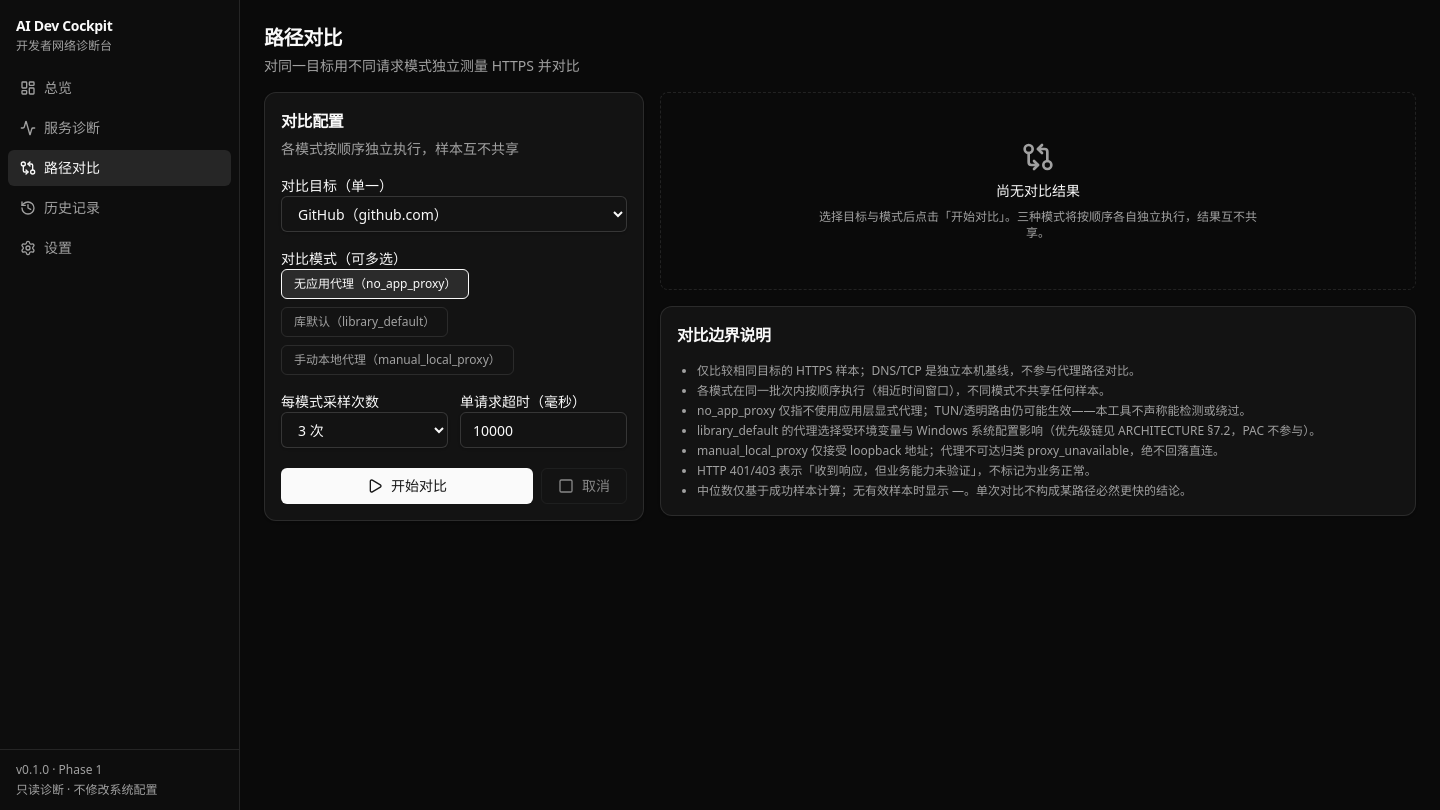
Scenario: 路径对比页（真实模式） › 顺序执行多模式并渲染各模式统计（样本互不共享）
// 选择 no_app_proxy（默认）+ 库默认
Click the button "库默认（library_default）": (365, 322) [281,307,448,337]
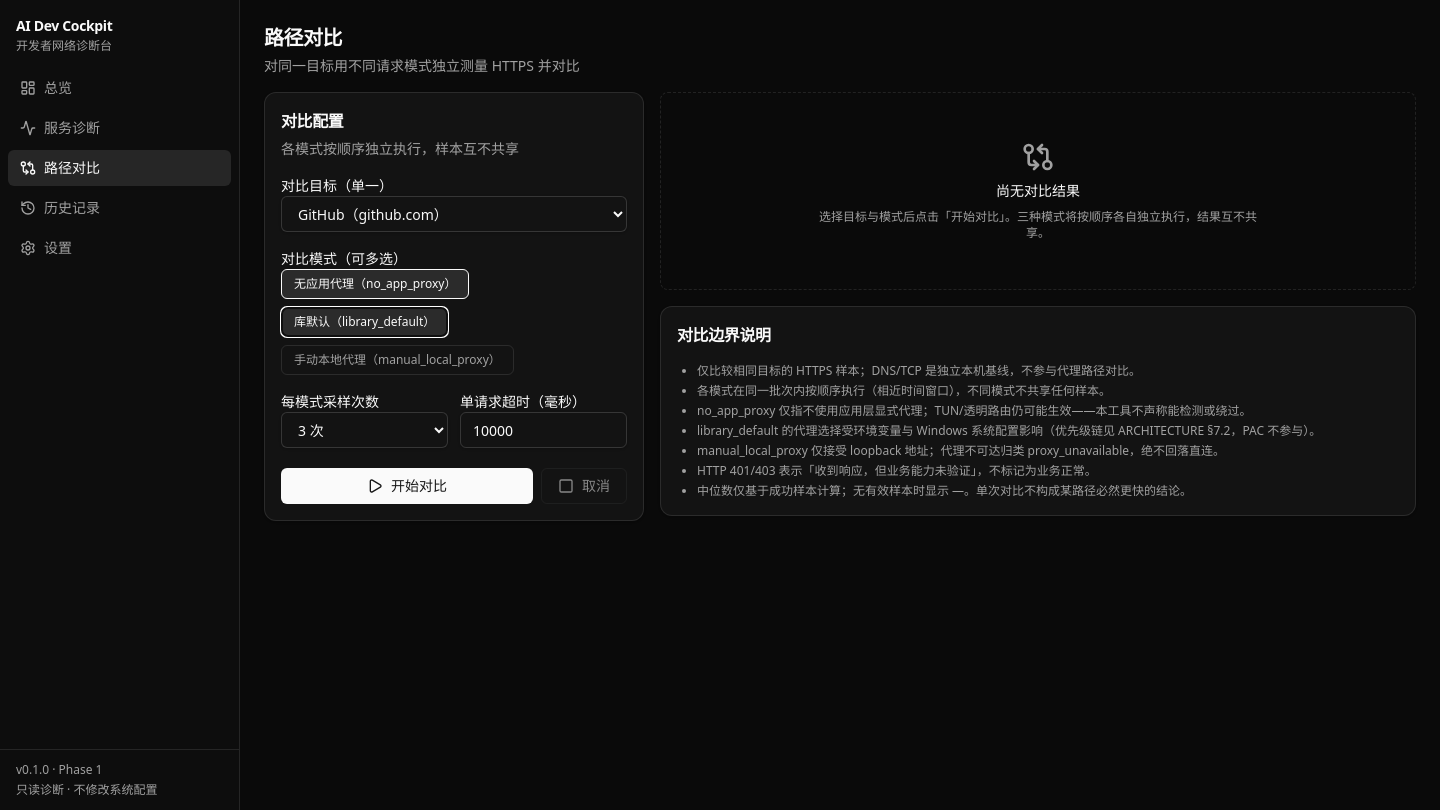
Click the button "开始对比": (407, 486) [281,468,533,504]
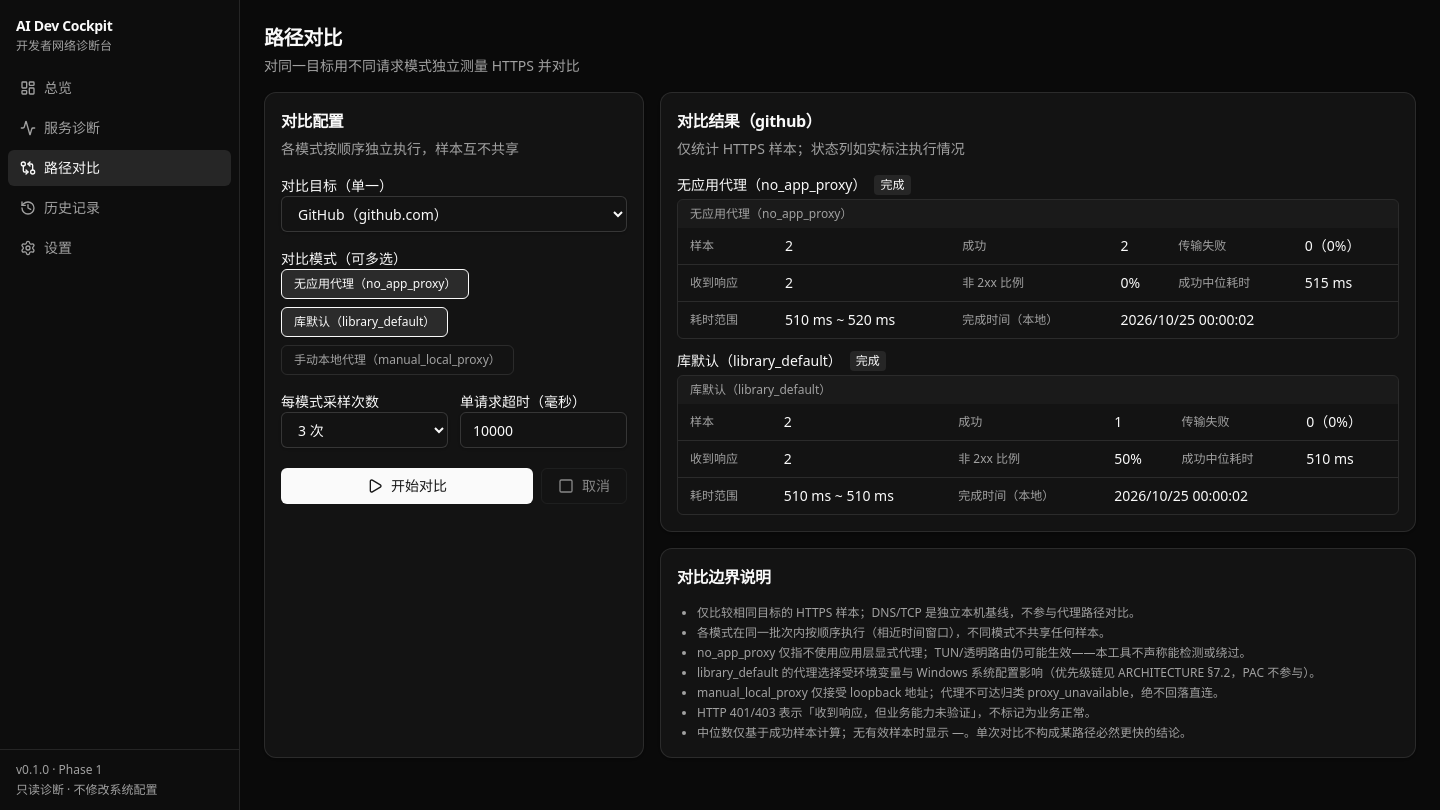
Result: the text "对比结果（github）" is shown at [677,110,821,132]
Result: the 1st text "成功" is shown at [950,228,1109,264]
Result: the text "50%" is shown at [1102,440,1170,478]
